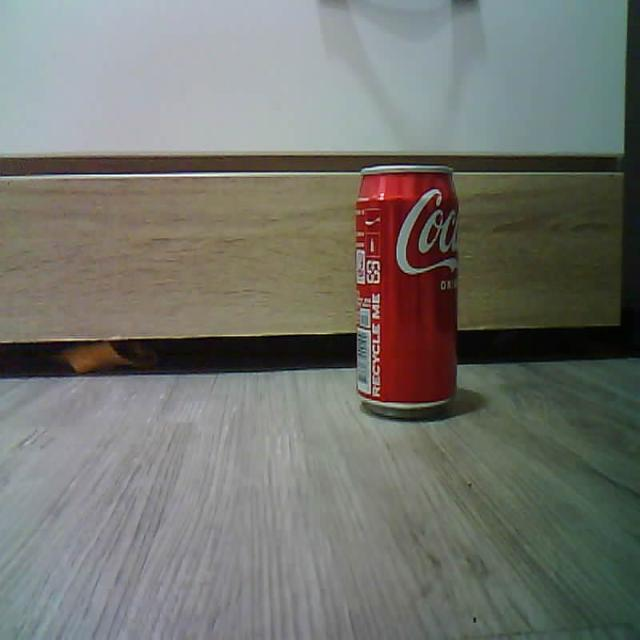can: (356, 164, 459, 417)
